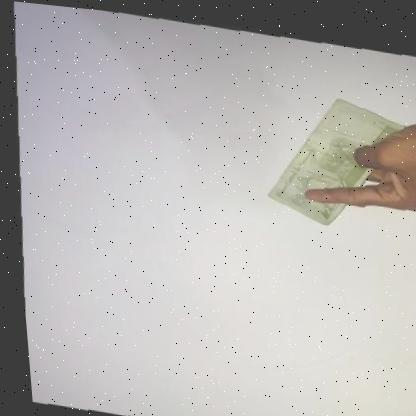vef_back: (255, 78, 415, 234)
